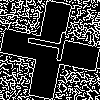T: (25, 25, 76, 64)
